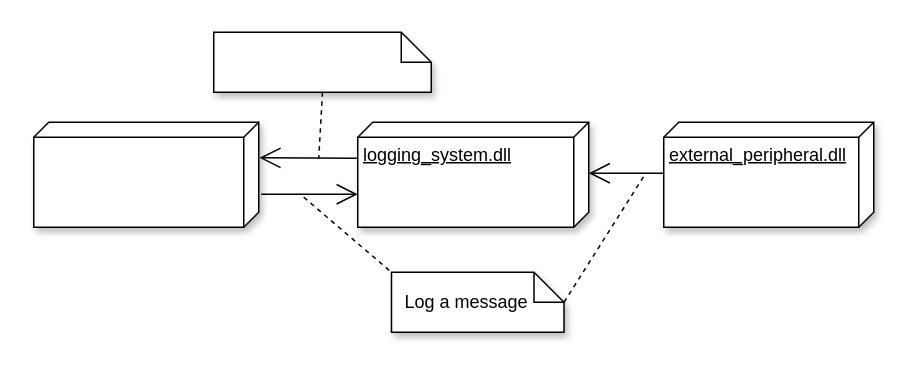
The diagram is 909 pixels wide and 369 high, and some of its shapes have lost their labels. Here are the shapes that lost their labels. From the top down, the centre of each, then its label:
[323,64]: forward the message to the endpoint loggers
[147,176]: zero_mate.exe
